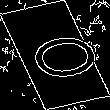O_E: (10, 27, 100, 83)
